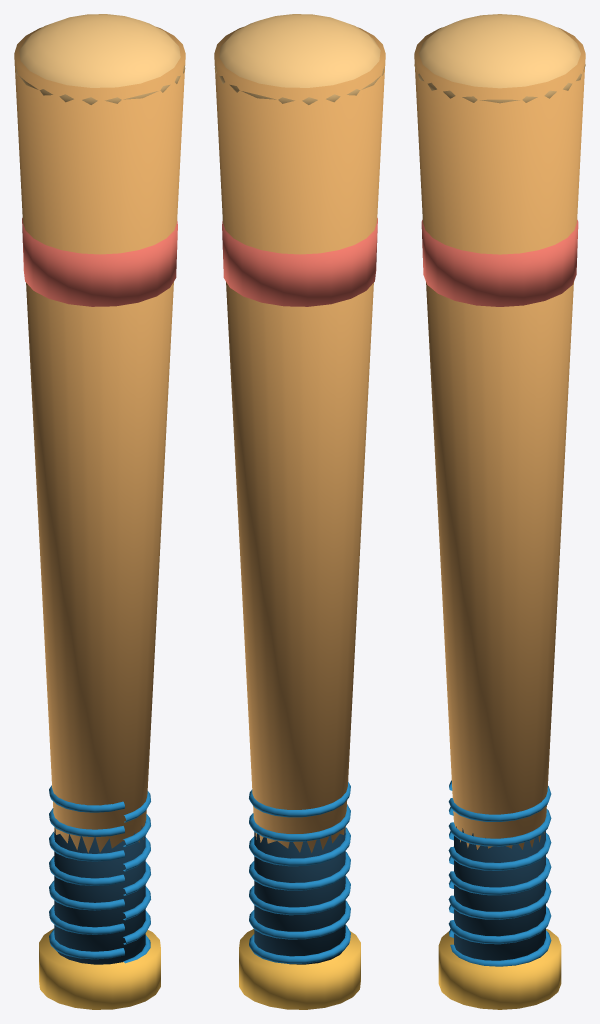
The model's file is bat.glb.
3 views of the same model, side by side, from view 1: azimuth 30°, elevation 25°; view 2: azimuth 150°, elevation 25°; view 3: azimuth 270°, elevation 25° (orthographic).
Parts seen in each view (by area): view 1: bat_wood, bat_wood_light, bat_coral, bat_navy, bat_blue, bat_gold; view 2: bat_wood, bat_wood_light, bat_coral, bat_navy, bat_blue, bat_gold; view 3: bat_wood, bat_wood_light, bat_coral, bat_navy, bat_blue, bat_gold.
Part boxes in pixels (bbox=[...]): bat_wood: bbox=[14, 27, 185, 852]; bat_wood_light: bbox=[15, 14, 185, 104]; bat_coral: bbox=[22, 218, 177, 306]; bat_navy: bbox=[54, 821, 145, 964]; bat_blue: bbox=[49, 785, 150, 963]; bat_gold: bbox=[39, 928, 160, 1009]; bat_wood: bbox=[214, 27, 385, 852]; bat_wood_light: bbox=[214, 14, 384, 104]; bat_coral: bbox=[222, 218, 377, 306]; bat_navy: bbox=[254, 827, 345, 964]; bat_blue: bbox=[249, 781, 350, 963]; bat_gold: bbox=[239, 929, 360, 1009]; bat_wood: bbox=[414, 27, 585, 849]; bat_wood_light: bbox=[414, 14, 585, 103]; bat_coral: bbox=[421, 220, 578, 306]; bat_navy: bbox=[454, 826, 545, 960]; bat_blue: bbox=[448, 780, 551, 966]; bat_gold: bbox=[438, 928, 561, 1009].
Bounding box in the file's own units: 0.28 × 1.72 × 0.28.
